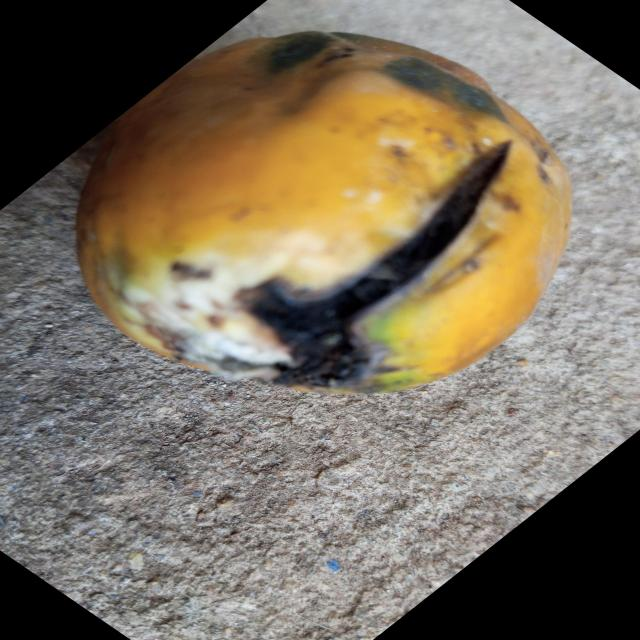damaged: (74, 30, 573, 395)
